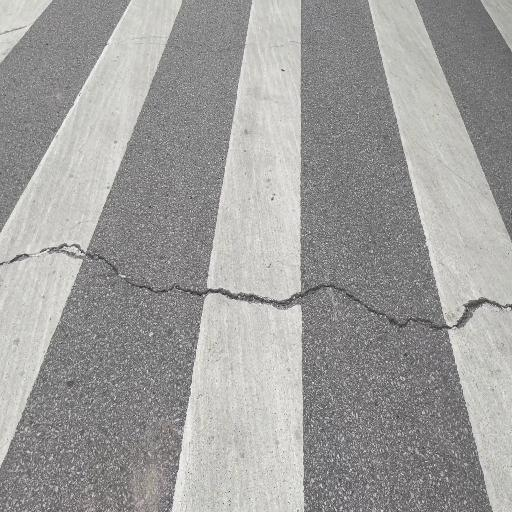Melintang: (0, 233, 512, 348)
